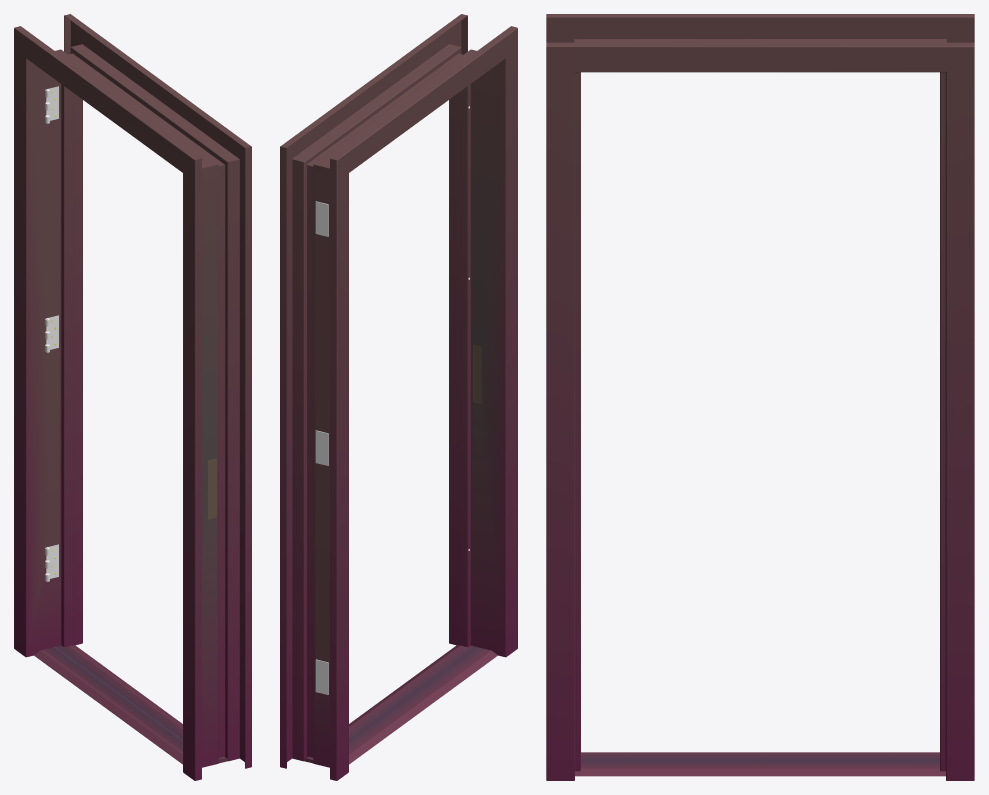
Rendered from Kit_DoorFrame_Steel.fbx.
The picture shows the model from 3 angles, left to right: view 1: azimuth 30°, elevation 25°; view 2: azimuth 150°, elevation 25°; view 3: azimuth 270°, elevation 25°; orthographic projection. The views are drawn at different scales.
Parts seen in each view (by area): view 1: Kit_DoorFrame_Steel_LOD0; view 2: Kit_DoorFrame_Steel_LOD0; view 3: Kit_DoorFrame_Steel_LOD0.
Part boxes in pixels (x1,y1,x2,y2): Kit_DoorFrame_Steel_LOD0: (14,14,251,780); Kit_DoorFrame_Steel_LOD0: (280,14,517,780); Kit_DoorFrame_Steel_LOD0: (546,14,974,780).
Size of what is drawn, in the model's own units: 0.21 by 2.17 by 1.15.
